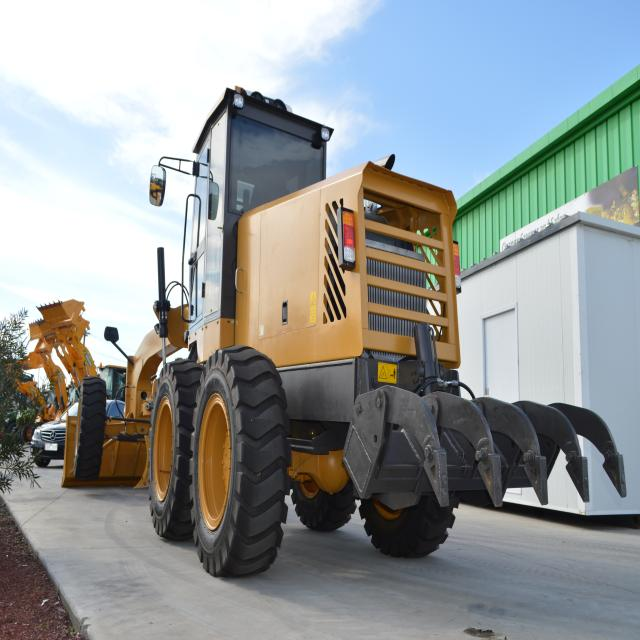buldozerpayloadergrader: (48, 78, 613, 601)
